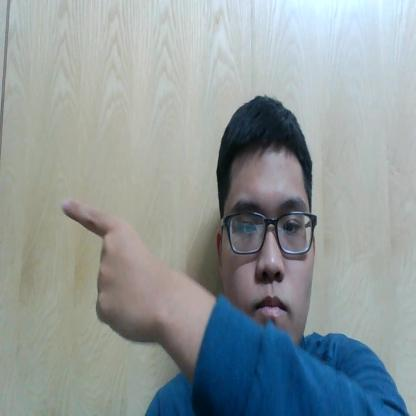right: (50, 186, 184, 354)
